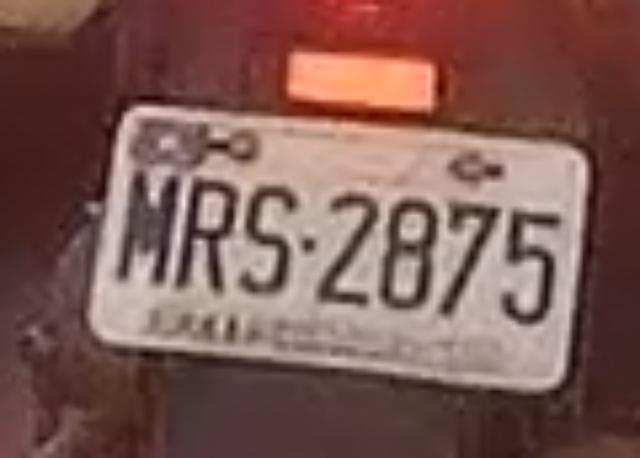plate: (94, 105, 594, 401)
